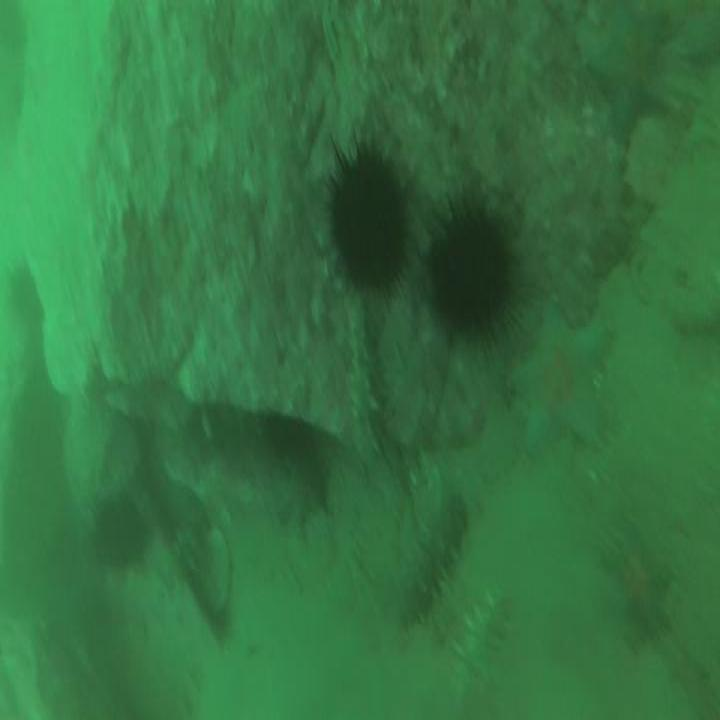echinus: (428, 201, 512, 338), (333, 155, 407, 293), (94, 489, 148, 572)
holothurian: (382, 491, 470, 622), (450, 583, 513, 711), (348, 297, 379, 464)
scallop: (200, 526, 232, 614)
starfish: (512, 300, 615, 454), (588, 9, 670, 135), (605, 530, 666, 629)
